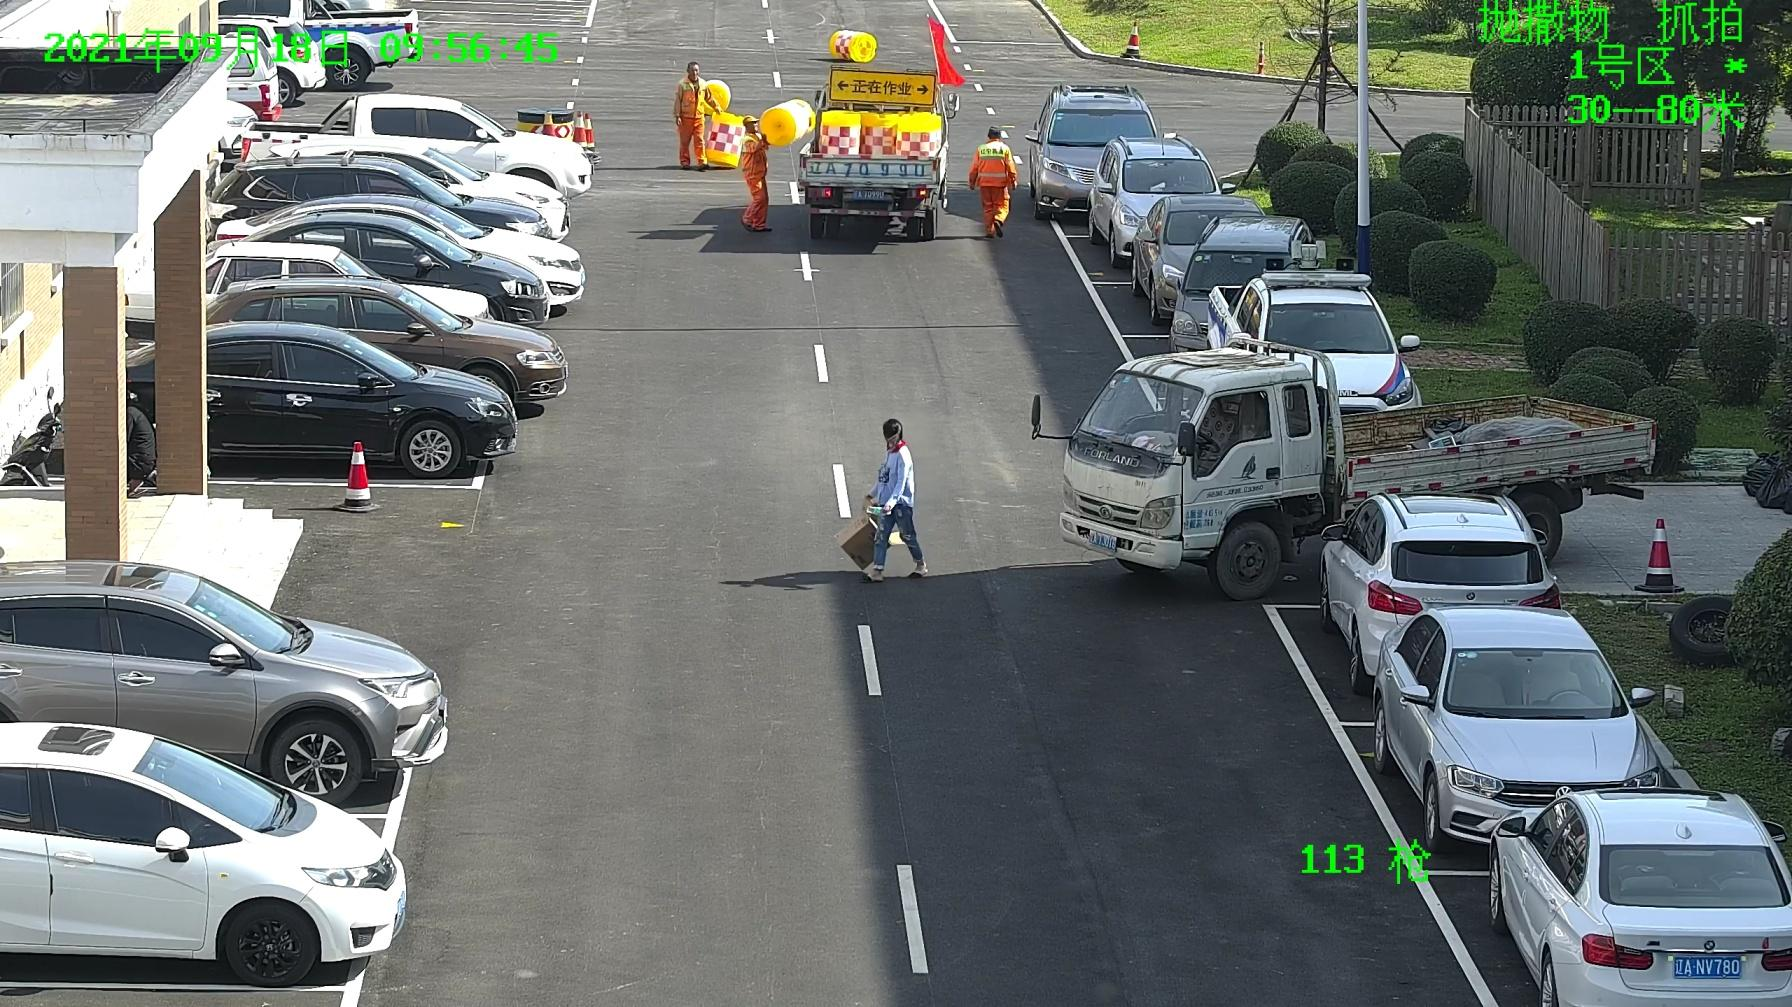cone_barrel: (762, 97, 812, 143), (817, 110, 860, 159), (896, 114, 940, 159), (706, 111, 738, 167), (826, 28, 878, 60), (862, 110, 896, 158)
